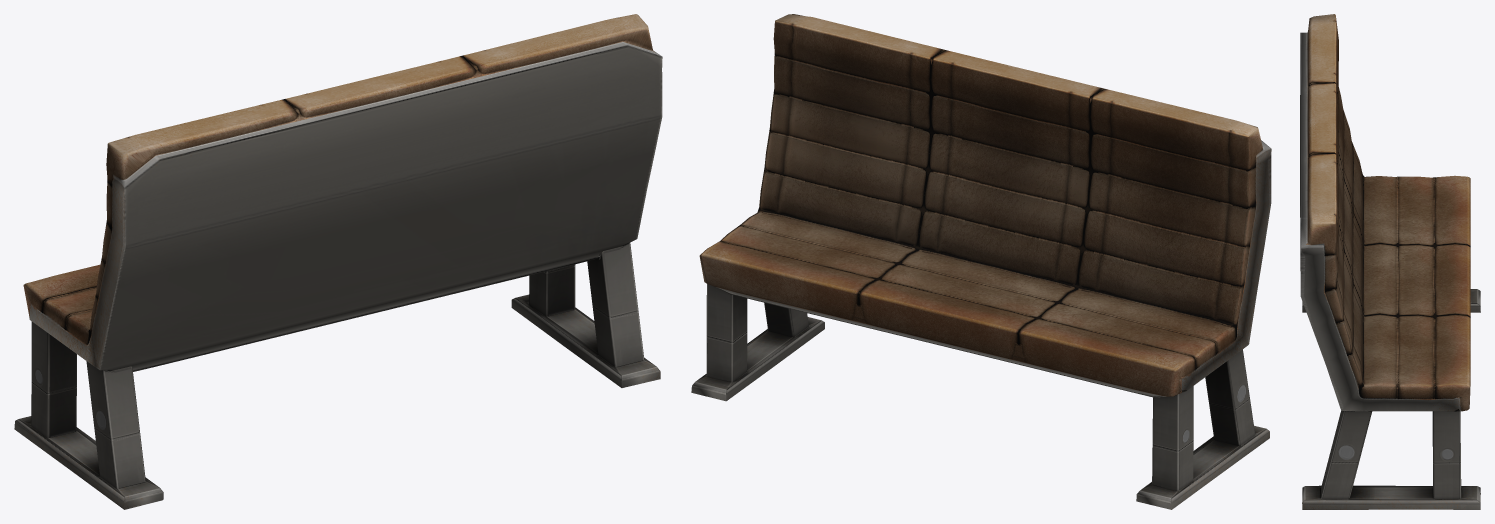
Rendered from Banc.fbx.
3 views of the same model, side by side, from view 1: azimuth 30°, elevation 25°; view 2: azimuth 150°, elevation 25°; view 3: azimuth 270°, elevation 25° (orthographic). The views are drawn at different scales.
Visible parts, largest first — view 1: LowBan:RetopoGroup3; view 2: LowBan:RetopoGroup3; view 3: LowBan:RetopoGroup3.
Boxes of the visible parts, bbox=[...] form: LowBan:RetopoGroup3: bbox=[14, 14, 662, 509]; LowBan:RetopoGroup3: bbox=[691, 14, 1271, 509]; LowBan:RetopoGroup3: bbox=[1300, 14, 1480, 509].
Bounding box in the file's own units: 226 × 141 × 80.77.
